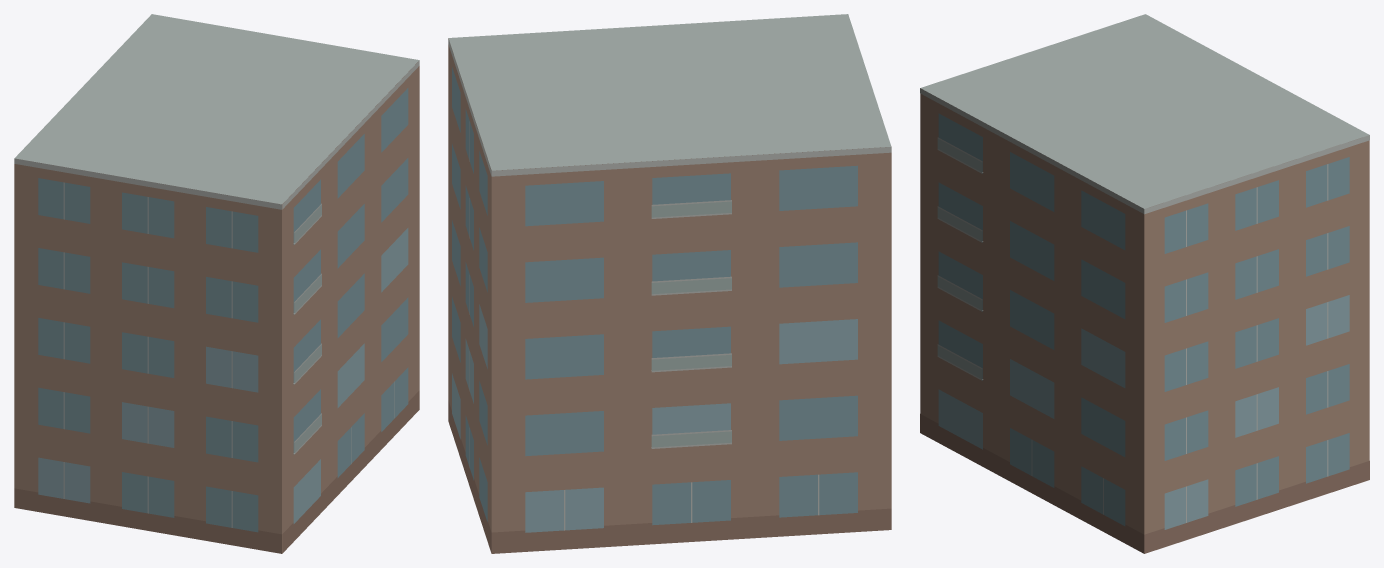
Rendered from survey-upis-32746038.glb.
The picture shows the model from 3 angles, left to right: view 1: azimuth 30°, elevation 25°; view 2: azimuth 150°, elevation 25°; view 3: azimuth 270°, elevation 25°; orthographic projection. The views are drawn at different scales.
Visible parts, largest first — view 1: survey-upis-32746038.tmp; view 2: survey-upis-32746038.tmp; view 3: survey-upis-32746038.tmp.
Boxes of the visible parts, x1=… form: survey-upis-32746038.tmp: x1=14, y1=14, x2=419, y2=553; survey-upis-32746038.tmp: x1=448, y1=14, x2=891, y2=553; survey-upis-32746038.tmp: x1=920, y1=14, x2=1369, y2=553.
Bounding box in the file's own units: 19.1 × 15.75 × 18.61.
